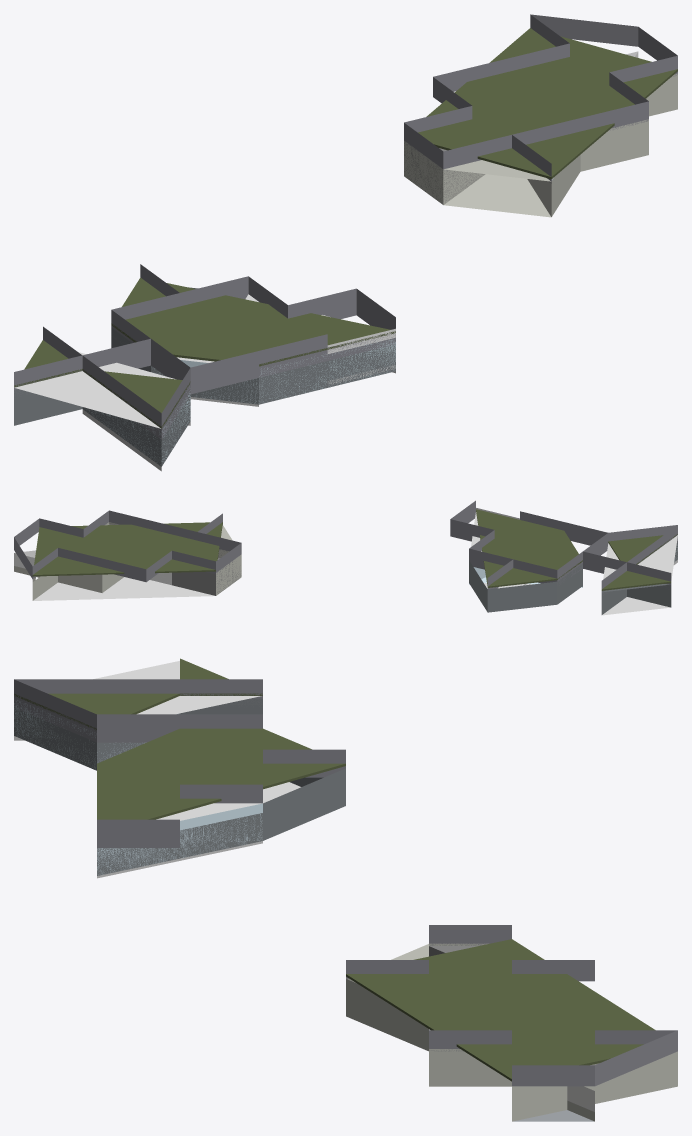
Rendered from pt-109-tanque-0001-v00.glb.
3 views of the same model, one above another, from view 1: azimuth 30°, elevation 25°; view 2: azimuth 150°, elevation 25°; view 3: azimuth 270°, elevation 25° (orthographic). The views are drawn at different scales.
Bounding box in the file's own units: 96 × 6.5 × 64.
